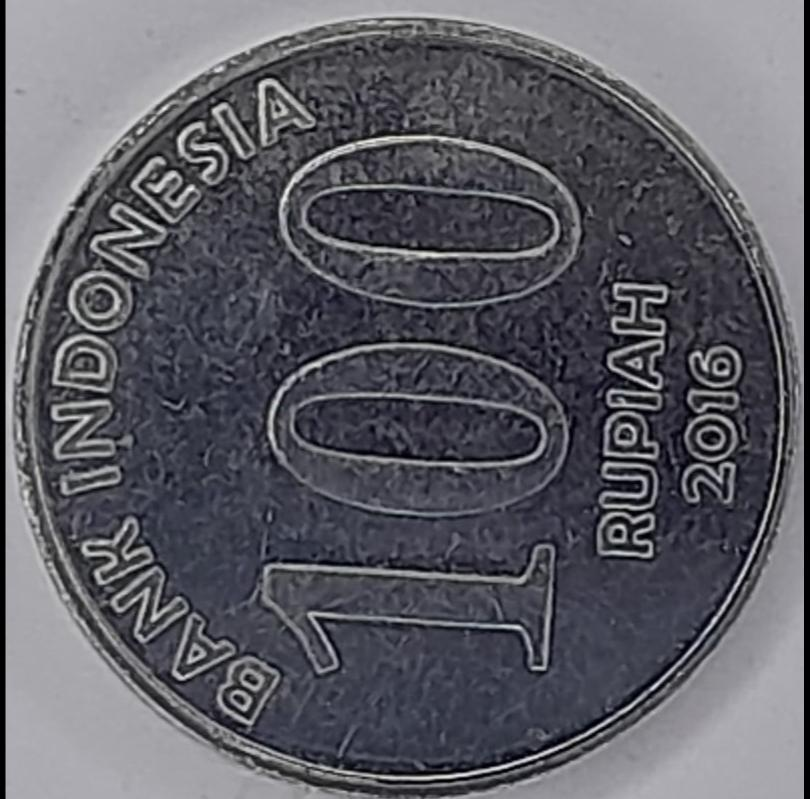coin_100_e2016: (8, 8, 803, 797)
